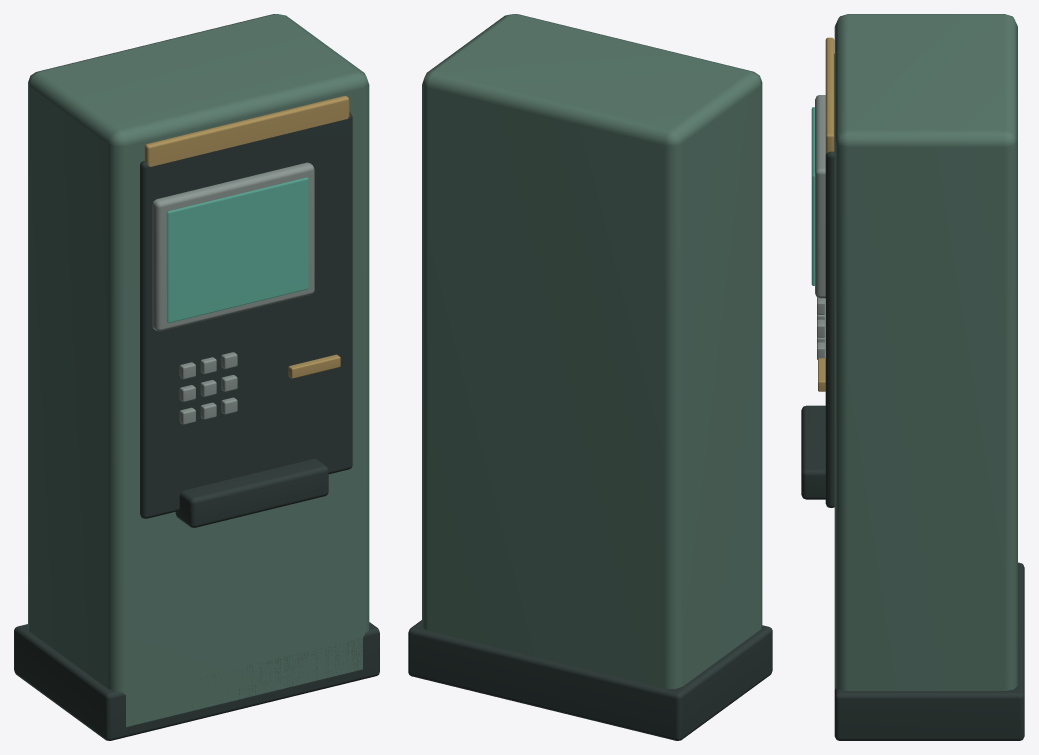
Rendered from ticket-machine.glb.
3 renders of one model, left to right at view 1: azimuth 30°, elevation 25°; view 2: azimuth 150°, elevation 25°; view 3: azimuth 270°, elevation 25°, orthographic.
Parts seen in each view (by area): view 1: Kiosk body, Kiosk plinth, Screen glass, Screen bezel, Card slot; view 2: Kiosk body, Kiosk plinth; view 3: Kiosk body, Kiosk plinth, Screen bezel, Card slot, Screen glass.
Boxes of the visible parts, left/top/right/bottom form: Kiosk body: left=28, top=14, right=369, bottom=726; Kiosk plinth: left=14, top=112, right=379, bottom=740; Screen glass: left=166, top=177, right=308, bottom=322; Screen bezel: left=152, top=162, right=314, bottom=424; Card slot: left=144, top=96, right=349, bottom=378; Kiosk body: left=422, top=14, right=762, bottom=688; Kiosk plinth: left=408, top=620, right=772, bottom=740; Kiosk body: left=834, top=14, right=1017, bottom=690; Kiosk plinth: left=801, top=54, right=1024, bottom=740; Screen bezel: left=815, top=95, right=825, bottom=359; Card slot: left=818, top=37, right=834, bottom=391; Screen glass: left=811, top=107, right=814, bottom=285.
Bounding box in the file's own units: 0.95 × 2 × 0.67.
